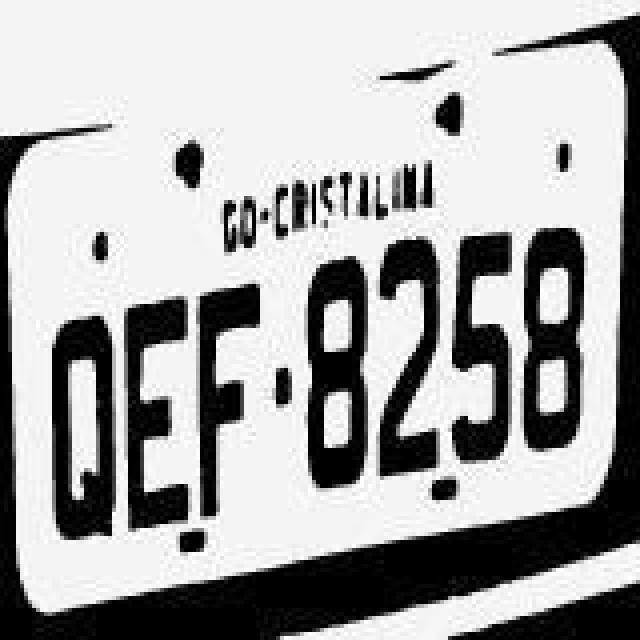2: (370, 230, 446, 474)
5: (448, 226, 512, 462)
8: (516, 226, 588, 454), (302, 256, 370, 488)
E: (124, 296, 196, 520)
F: (198, 280, 266, 520)
Q: (44, 318, 116, 546)
